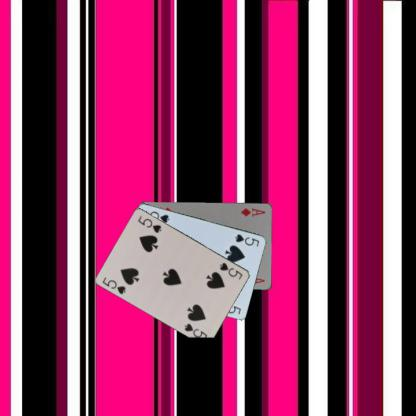5s: (100, 274, 127, 296), (217, 260, 244, 281), (232, 231, 261, 247)
Ad: (239, 204, 267, 218)
